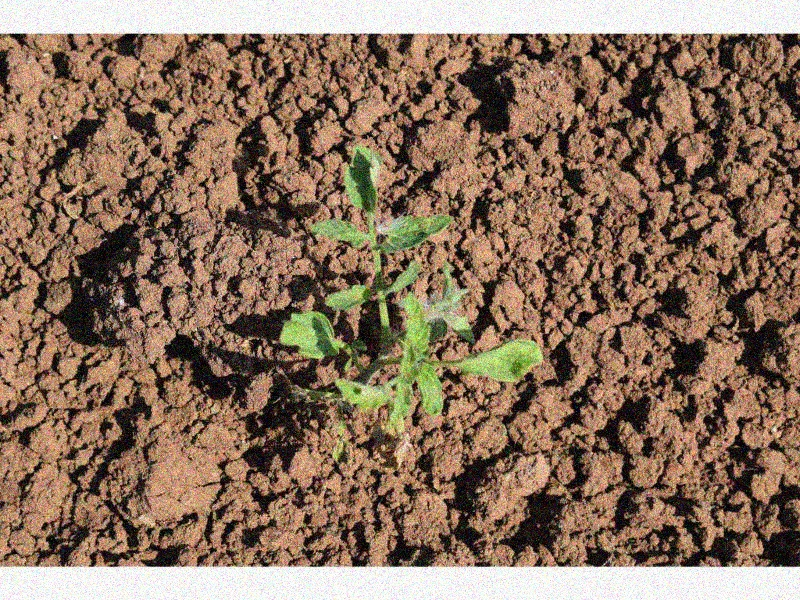tomato: (279, 147, 543, 437)
